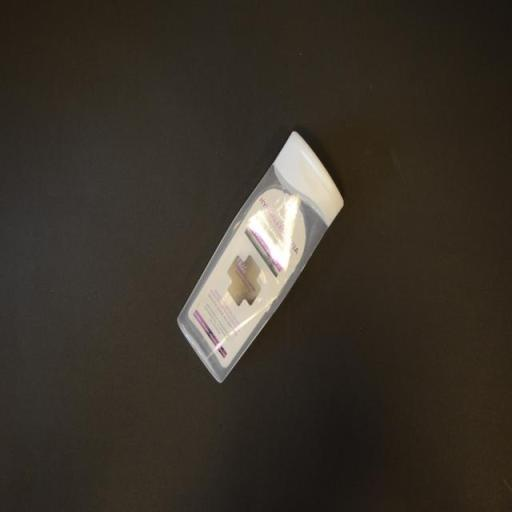plastic: (175, 126, 348, 389)
